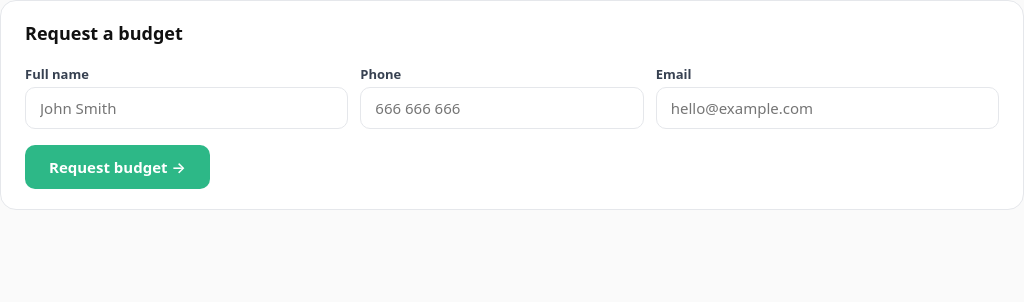
Test: ClientForm › shows error messages when submitted empty
Click the button "Request budget →": (117, 167) [25, 145, 210, 189]
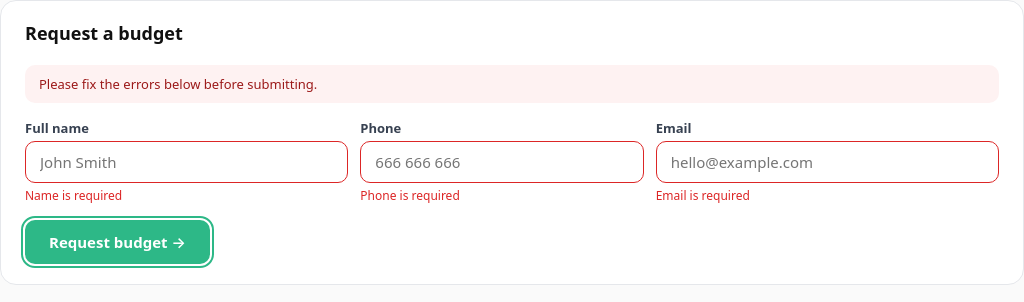
Now the text "Name is required" is shown, box [25, 187, 122, 204]
Now the text "Email is required" is shown, box [656, 187, 750, 204]
Now the text "Phone is required" is shown, box [360, 187, 460, 204]
